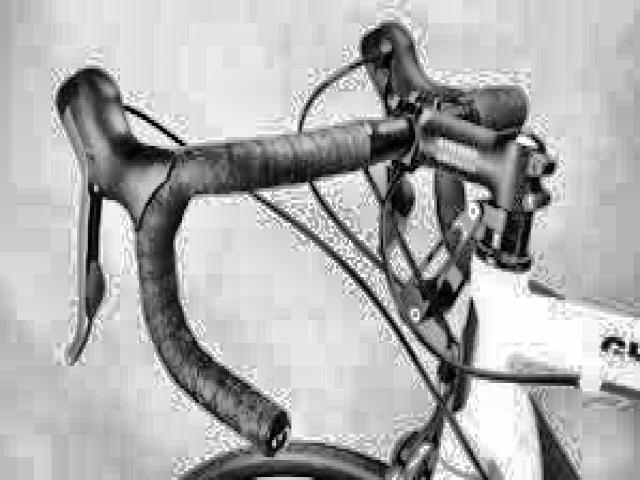sti_shifter: (54, 67, 138, 374), (359, 23, 420, 254)
